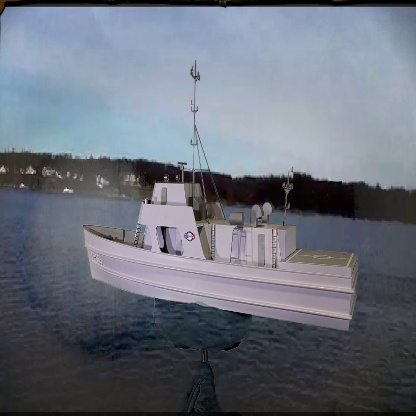YP689: (81, 60, 358, 335)
